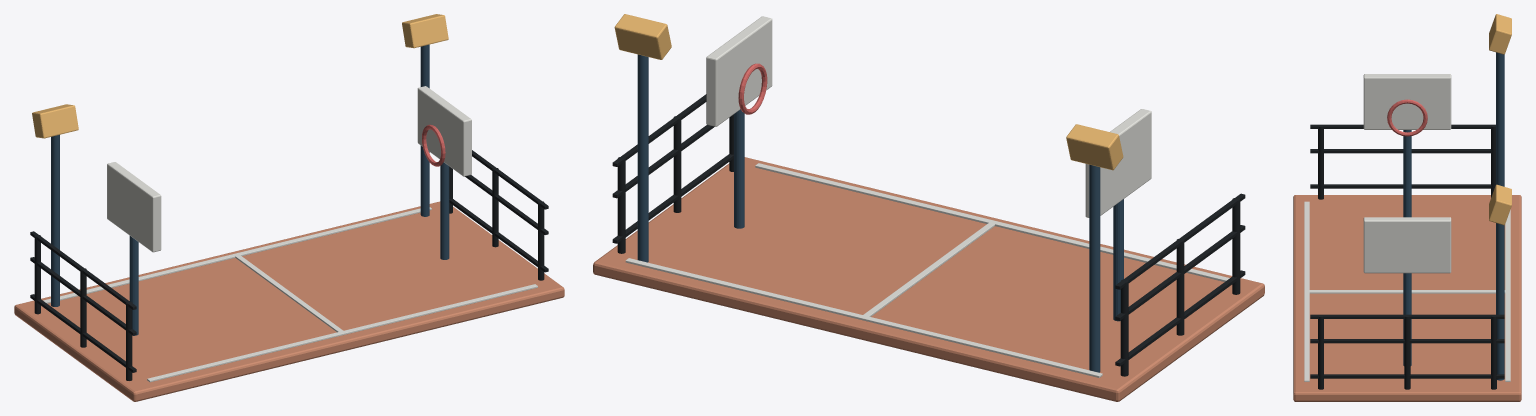
The model's file is SPORT_BASKET_2x1_001.glb.
3 views of the same model, side by side, from view 1: azimuth 30°, elevation 25°; view 2: azimuth 150°, elevation 25°; view 3: azimuth 270°, elevation 25° (orthographic). The views are drawn at different scales.
Parts seen in each view (by area): view 1: SPORT_BASKET_2x1_001_Visual; view 2: SPORT_BASKET_2x1_001_Visual; view 3: SPORT_BASKET_2x1_001_Visual.
Part boxes in pixels (x1=…): SPORT_BASKET_2x1_001_Visual: x1=14, y1=14, x2=564, y2=401; SPORT_BASKET_2x1_001_Visual: x1=593, y1=14, x2=1264, y2=401; SPORT_BASKET_2x1_001_Visual: x1=1293, y1=14, x2=1521, y2=401.
Size of what is drawn, in the model's own units: 3.88 by 1.78 by 1.88.
